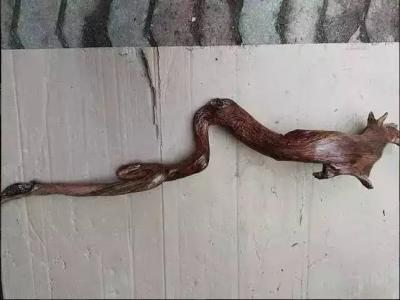Root: (1, 98, 399, 199)
